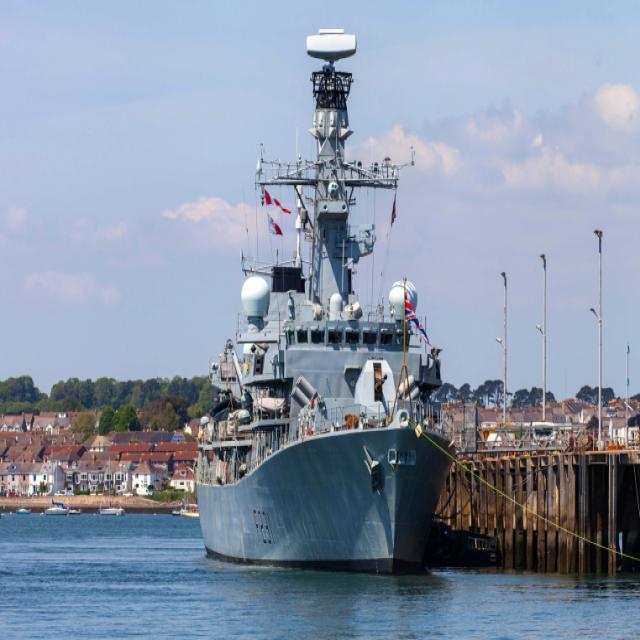Fragata: (192, 13, 463, 585)
